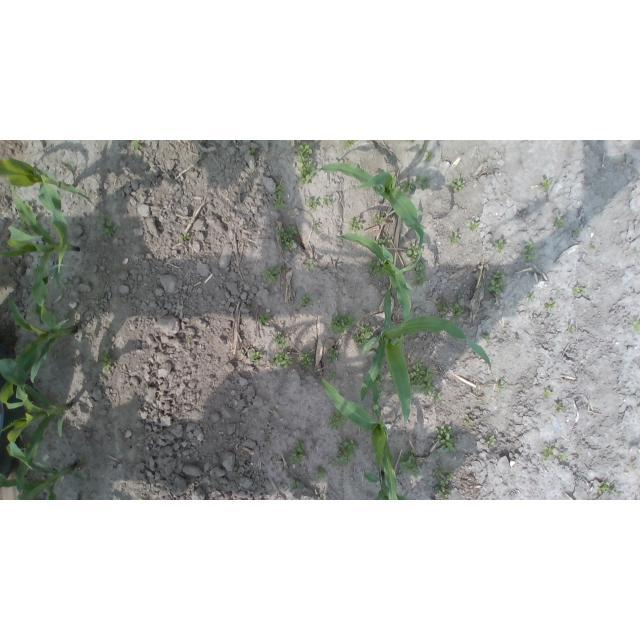Maize: (361, 288, 491, 424), (308, 165, 425, 275), (1, 183, 80, 332), (0, 157, 92, 271), (1, 357, 72, 500), (320, 372, 398, 500), (1, 296, 76, 409), (335, 235, 412, 328), (0, 450, 74, 500), (362, 470, 406, 500)
Weeds: (296, 141, 319, 186), (407, 360, 435, 396), (332, 436, 360, 469), (433, 468, 454, 500), (399, 452, 423, 480), (328, 312, 356, 336), (97, 212, 119, 240), (276, 226, 298, 252), (436, 425, 457, 452), (353, 324, 374, 348), (288, 439, 307, 465), (412, 261, 429, 287), (272, 184, 289, 209), (488, 271, 505, 294), (263, 267, 282, 285), (272, 353, 292, 370), (328, 411, 345, 431), (100, 348, 113, 373), (273, 332, 290, 351), (523, 241, 537, 264), (19, 213, 33, 235), (452, 295, 464, 320), (435, 299, 450, 319), (407, 244, 424, 261), (300, 352, 315, 371), (368, 260, 385, 276), (348, 217, 364, 234), (448, 176, 465, 192), (537, 178, 552, 193), (325, 347, 340, 362), (400, 180, 417, 193), (250, 348, 263, 365), (415, 176, 430, 190), (598, 482, 614, 495), (626, 317, 640, 331), (542, 445, 555, 459), (315, 468, 328, 482), (553, 215, 566, 229), (300, 293, 313, 307), (258, 312, 273, 324), (304, 260, 320, 271), (463, 413, 476, 426), (378, 236, 392, 248), (448, 232, 461, 244), (417, 140, 427, 154), (246, 299, 257, 311), (545, 299, 556, 311), (307, 198, 319, 209), (178, 233, 190, 243), (468, 221, 480, 231), (373, 213, 384, 223), (496, 240, 505, 252), (574, 286, 587, 294), (558, 452, 568, 462), (554, 404, 565, 413), (292, 480, 303, 489), (131, 141, 142, 150), (343, 141, 357, 148), (481, 333, 491, 342), (487, 436, 497, 445), (247, 148, 257, 157), (542, 389, 553, 397), (424, 151, 432, 162), (376, 374, 383, 386), (416, 209, 425, 218), (323, 196, 332, 205), (328, 372, 337, 381), (26, 201, 34, 211), (497, 381, 504, 392), (567, 325, 575, 334), (432, 394, 440, 403), (572, 228, 580, 236), (631, 463, 638, 472), (312, 221, 321, 228), (588, 245, 595, 252), (528, 294, 535, 300), (187, 335, 193, 341), (407, 140, 414, 145)
